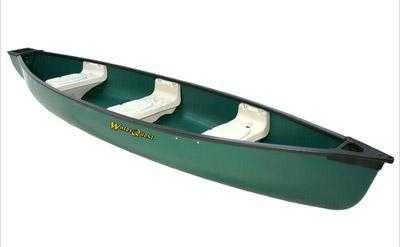kayak: (10, 46, 390, 212)
